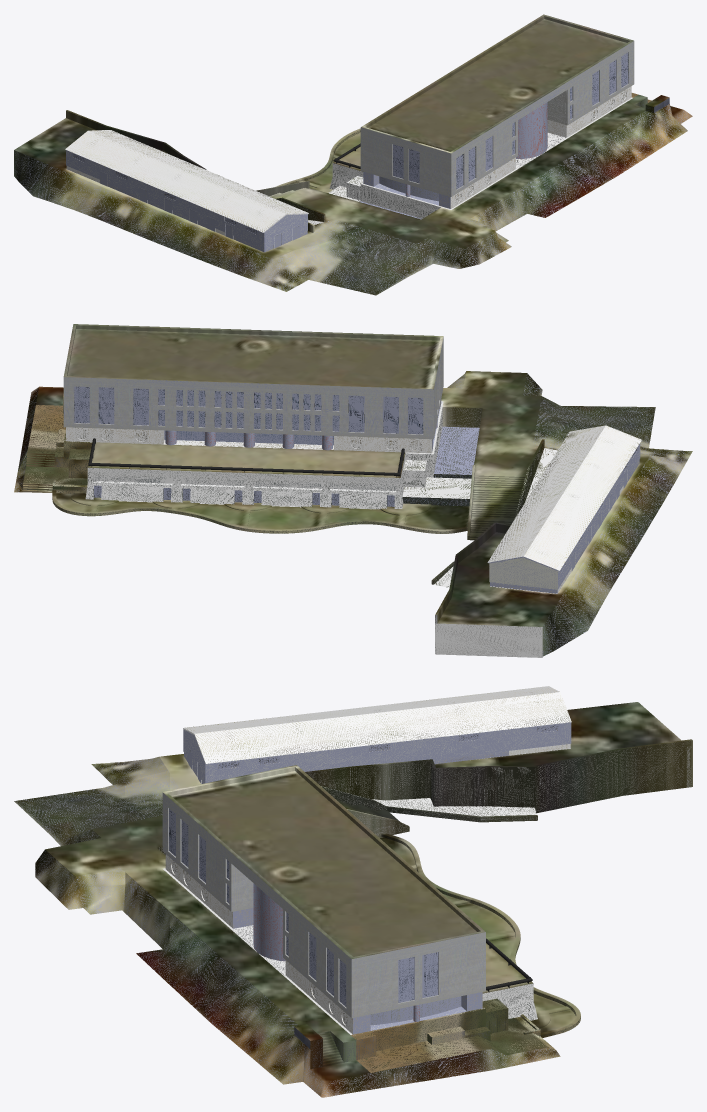
The model's file is Edificio de Telecomunicaciones y Barracones.fbx.
3 views of the same model, one above another, from view 1: azimuth 30°, elevation 25°; view 2: azimuth 150°, elevation 25°; view 3: azimuth 270°, elevation 25° (orthographic). The views are drawn at different scales.
Parts seen in each view (by area): view 1: Group2, Group5, Group40, Group30, Group35, Group7, Group38, Group42, Group33, Group39, Group45, Group9; view 2: Group8, Group40, Group5, Group2, Group35, Group9, Group6, Group42, Group33, Group34, Group41, Group36 (+4 smaller); view 3: Group5, Group2, Group40, Group45, Group30, Group35, Group29, Group37, Group34, Group42, Group43, Group9 (+3 smaller).
Part boxes in pixels (bbox=[...]): Group2: bbox=[14, 103, 692, 295]; Group5: bbox=[361, 14, 633, 153]; Group40: bbox=[256, 95, 683, 248]; Group30: bbox=[450, 41, 634, 209]; Group35: bbox=[65, 130, 308, 232]; Group7: bbox=[360, 127, 451, 208]; Group38: bbox=[66, 150, 264, 251]; Group42: bbox=[14, 118, 323, 258]; Group33: bbox=[328, 176, 451, 219]; Group39: bbox=[263, 213, 308, 252]; Group45: bbox=[66, 110, 314, 232]; Group9: bbox=[329, 163, 363, 189]; Group8: bbox=[63, 377, 433, 453]; Group40: bbox=[36, 371, 544, 584]; Group5: bbox=[63, 324, 443, 389]; Group2: bbox=[14, 371, 692, 656]; Group35: bbox=[487, 425, 641, 570]; Group9: bbox=[85, 454, 405, 509]; Group6: bbox=[88, 442, 405, 477]; Group42: bbox=[437, 454, 649, 626]; Group33: bbox=[402, 401, 479, 506]; Group34: bbox=[22, 394, 92, 493]; Group41: bbox=[435, 623, 542, 657]; Group36: bbox=[488, 556, 559, 593]; Group5: bbox=[163, 765, 485, 958]; Group2: bbox=[14, 757, 560, 1097]; Group40: bbox=[45, 785, 580, 1082]; Group45: bbox=[306, 740, 692, 813]; Group30: bbox=[162, 792, 352, 1034]; Group35: bbox=[183, 686, 571, 763]; Group29: bbox=[351, 932, 485, 1034]; Group37: bbox=[205, 722, 571, 783]; Group34: bbox=[351, 998, 555, 1072]; Group42: bbox=[159, 702, 681, 788]; Group43: bbox=[385, 798, 536, 816]; Group9: bbox=[482, 983, 537, 1020].
Size of the model in its own units: 118 by 17.35 by 89.38.
